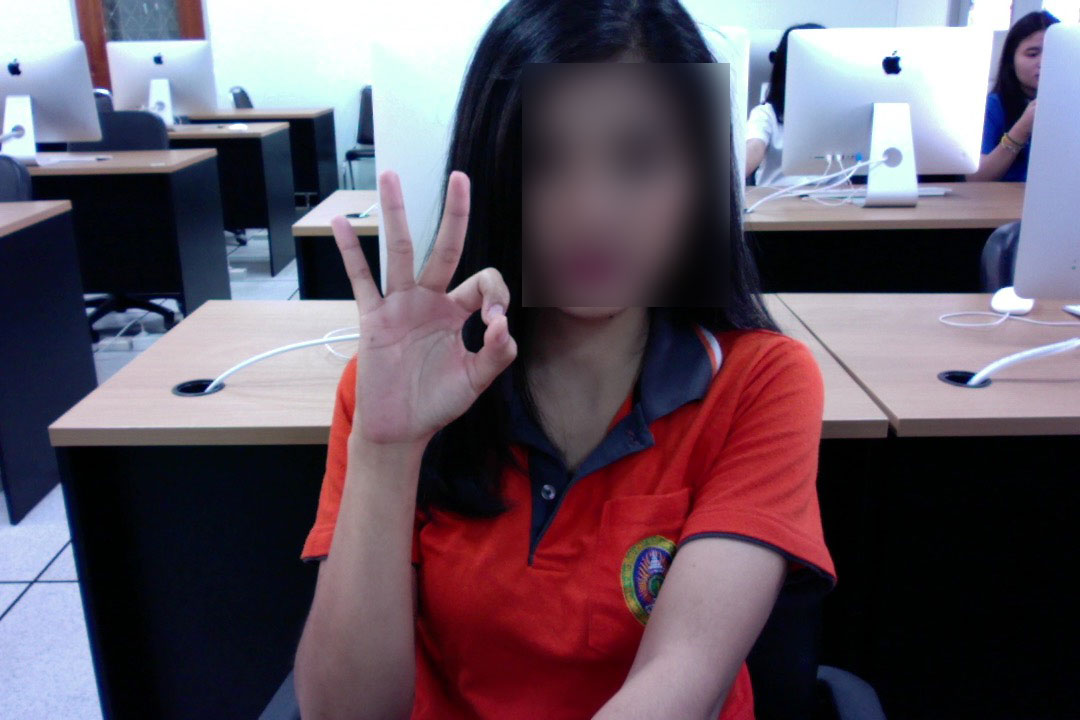for: (296, 140, 534, 490)
